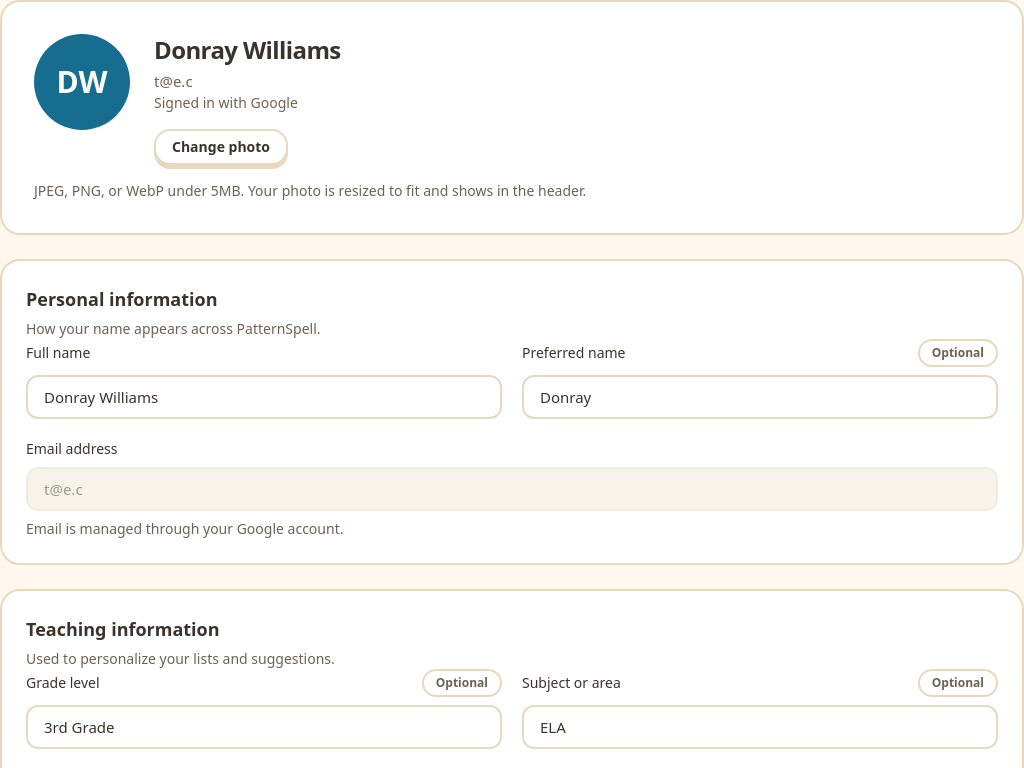
Scenario: ProfileForm › debounces rapid changes into a single save
Replace the text in the field labelled "Full name" with "Donray W.". click: (264, 396)
box: [26, 374, 502, 418]
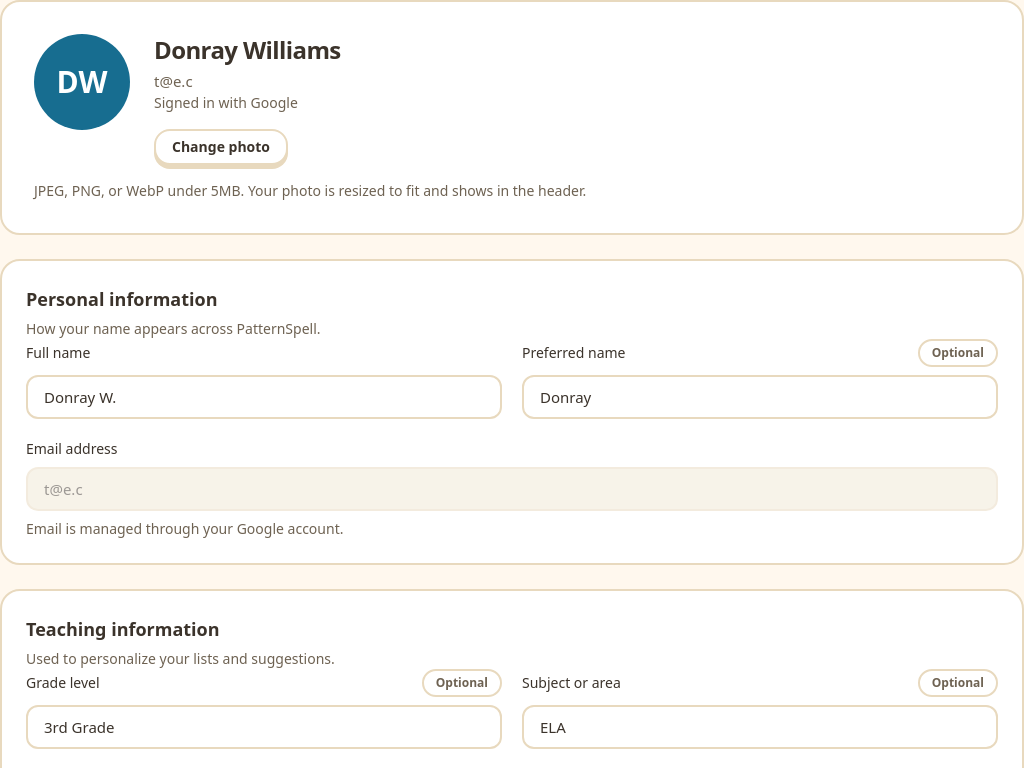
Replace the text in the field labelled "Full name" with "Donray Wi.". click: (264, 396)
box: [26, 374, 502, 418]
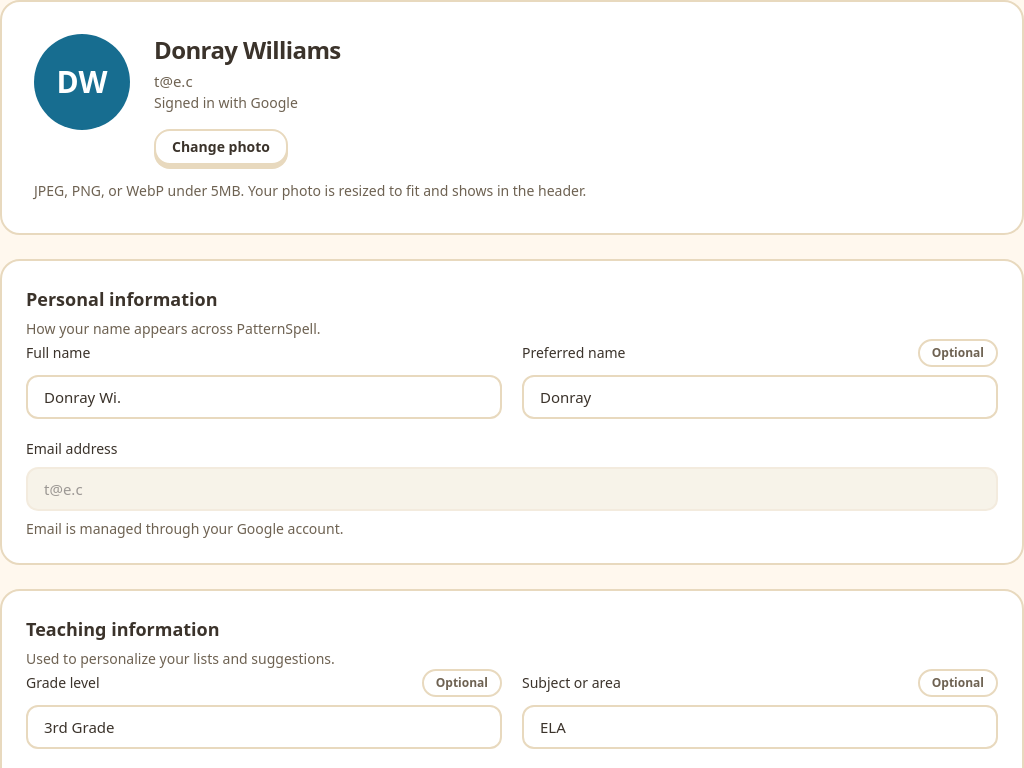
Replace the text in the field labelled "Preferred name" with "Don". click: (760, 396)
box: [522, 374, 998, 418]
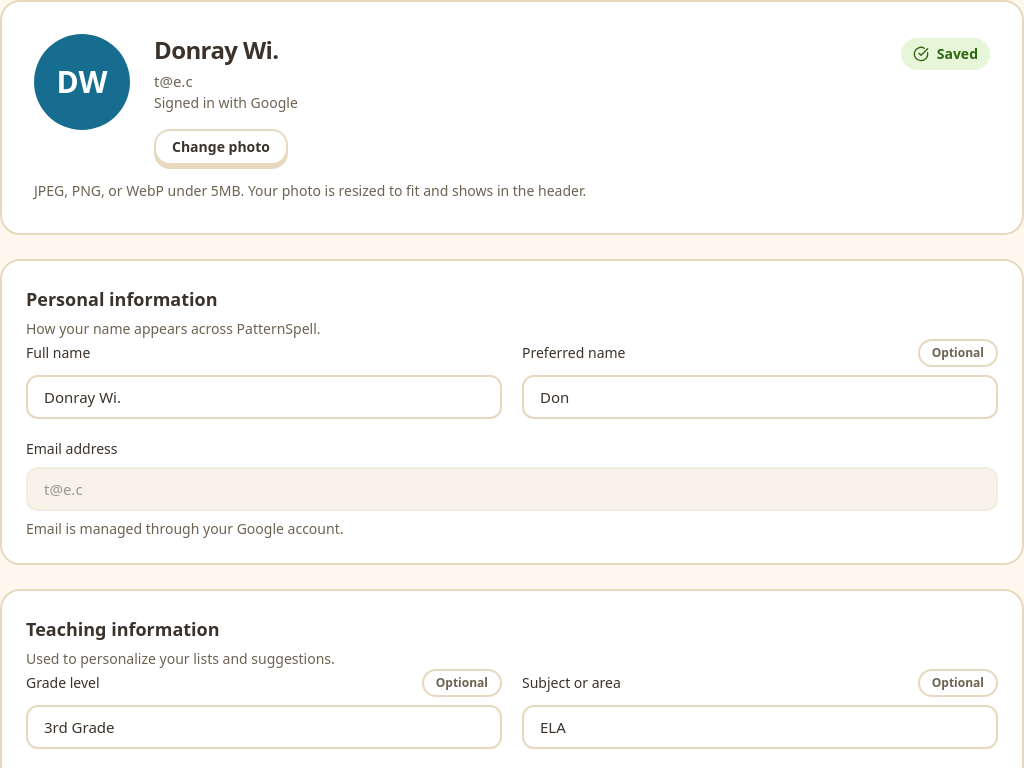
Check: the heading "Donray Wi." is shown, box [154, 33, 279, 66]
